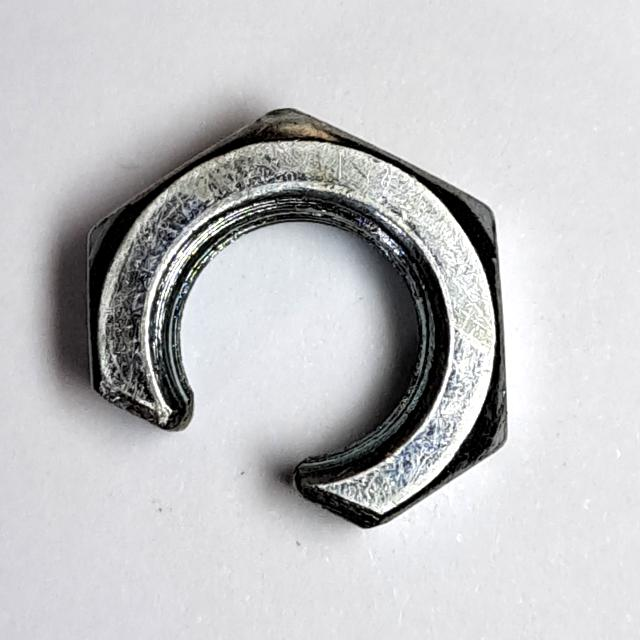Fracture: (66, 79, 528, 545)
